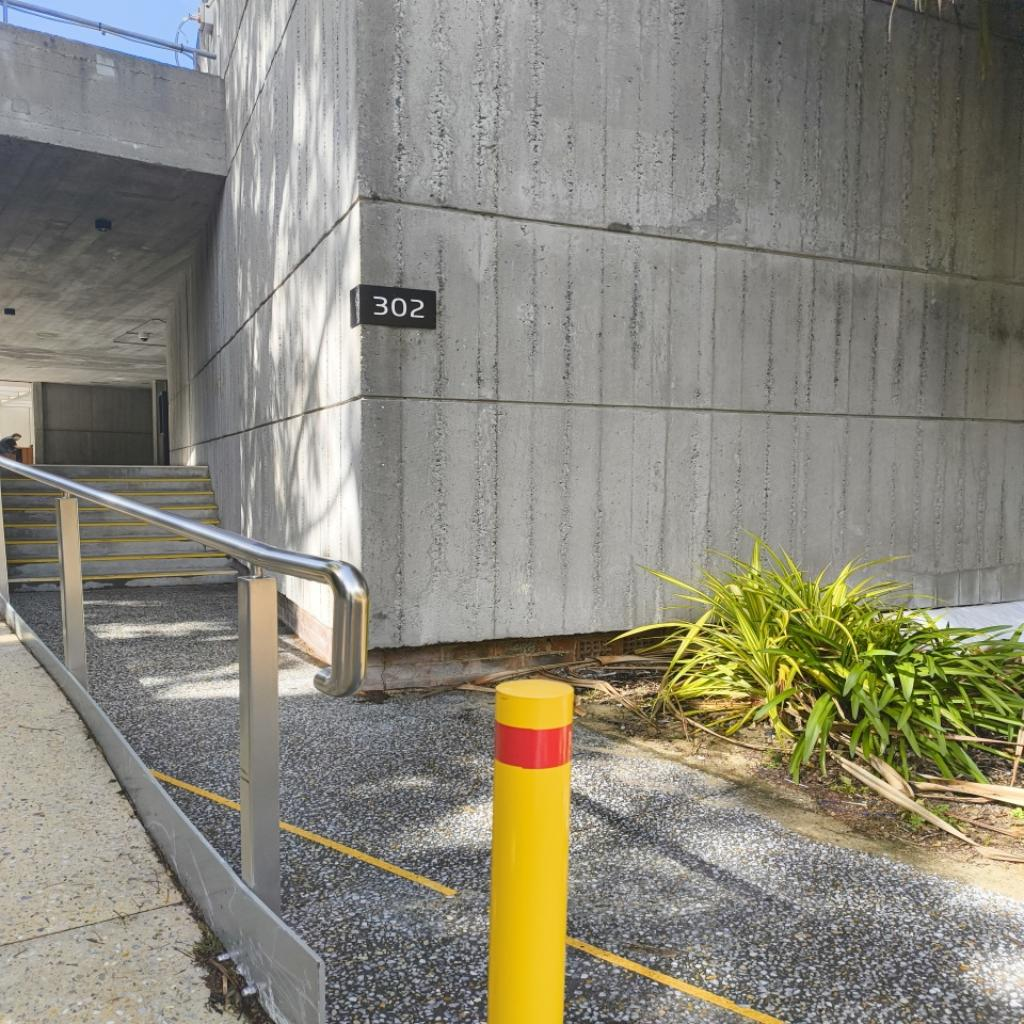BuildingCodes: (369, 290, 429, 322)
